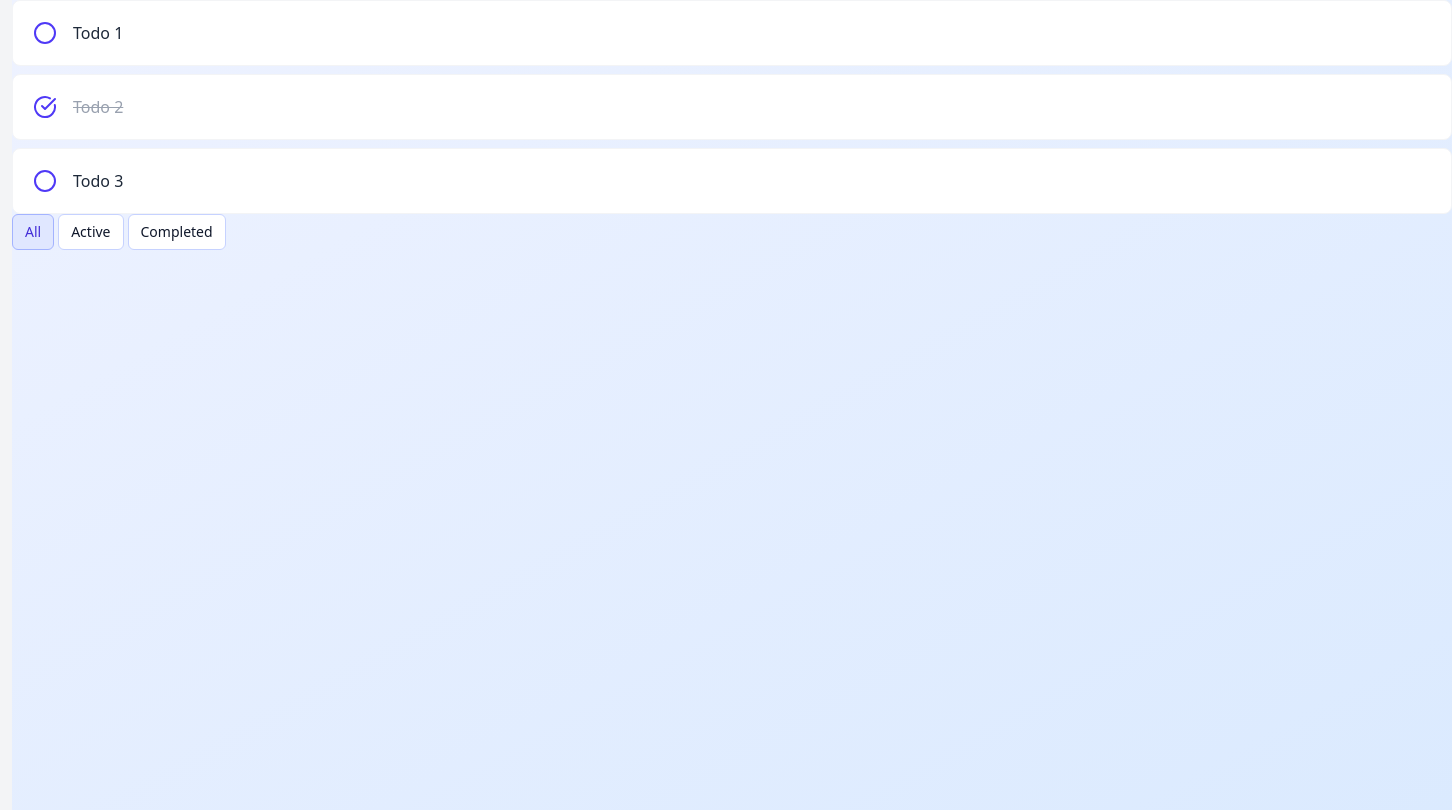
Test: TodoFilter test › Should render only active todos if the filter is "active"
Click the button "Active" at (91, 232), box [58, 214, 124, 250]
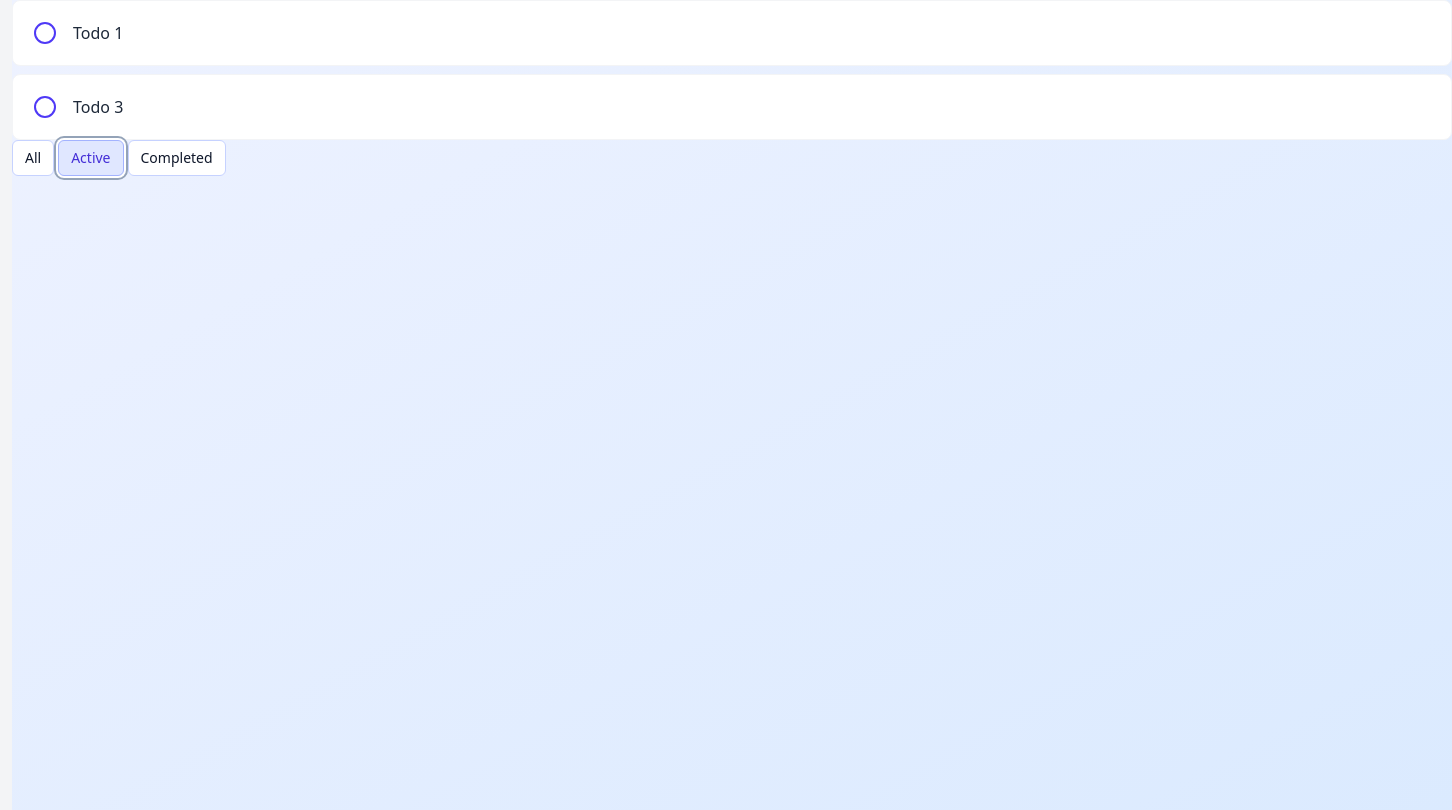
Result: the number of headings "Todo 1" is 2 at [73, 22, 123, 44]; [73, 96, 123, 118]
